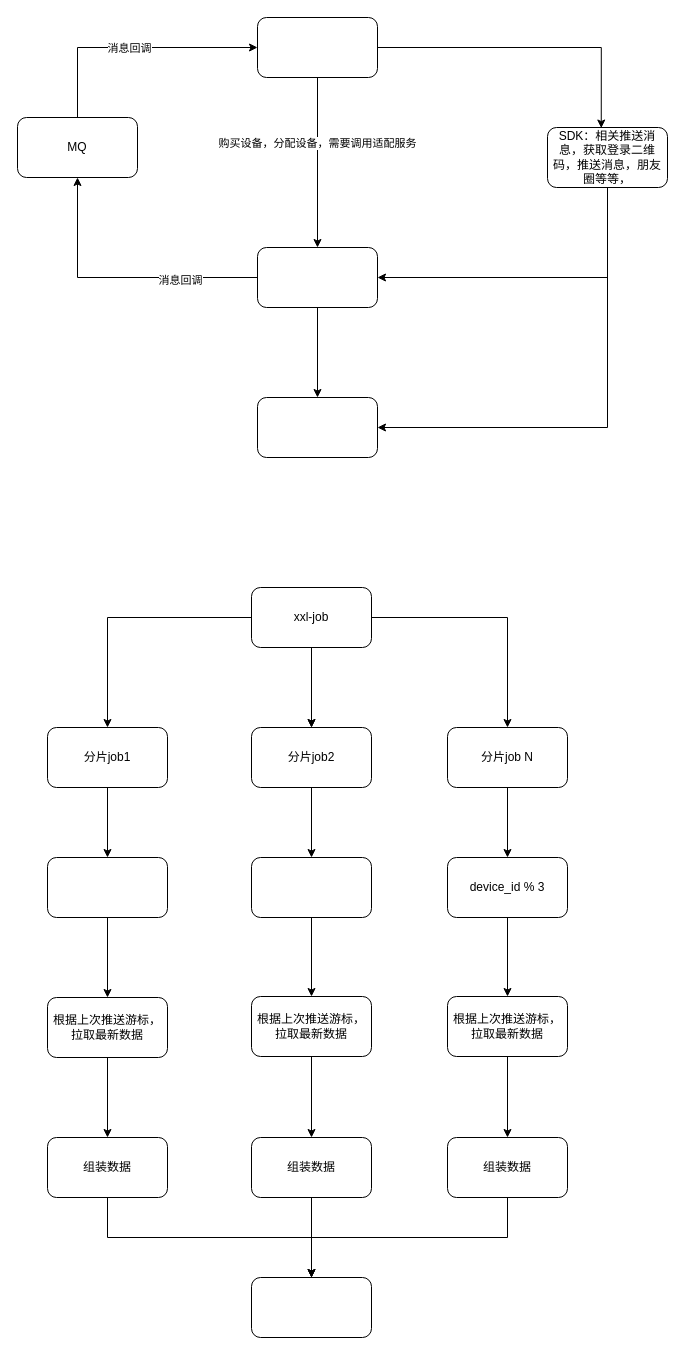
This 685x1355 diagram has some shape labels left out. The centre of each missing label's shape, as x and y in pixels:
"device_id % 1" belongs at (107,887).
"device_id % 2" belongs at (311,887).
"miyuan-service-wechat" belongs at (311,1307).
"云发单业务服务" belongs at (317,47).
"发单帝服务接口" belongs at (317,427).
"发单帝适配服务" belongs at (317,277).
